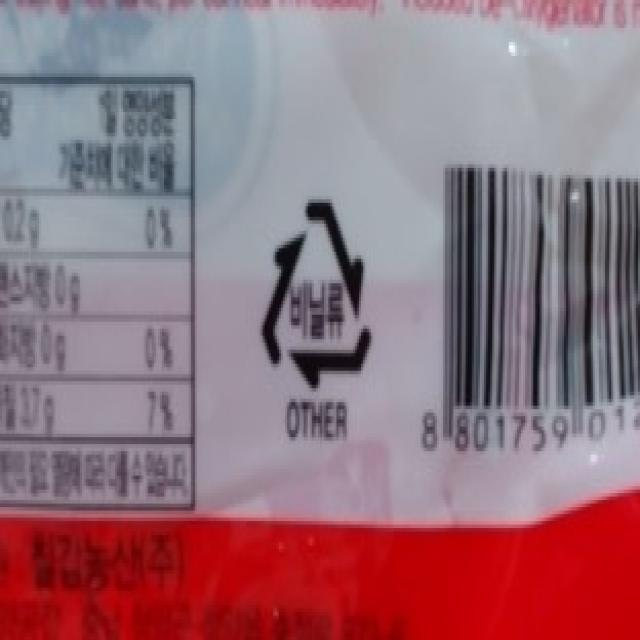Vinyl: (256, 192, 376, 397)
